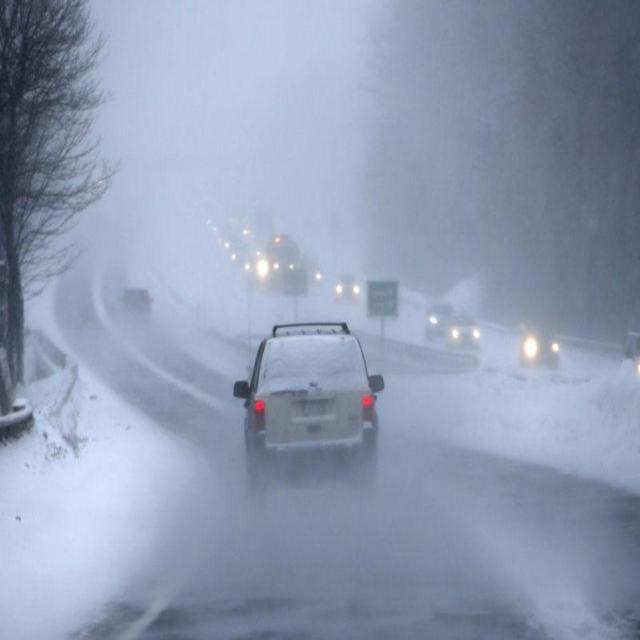Car: (230, 288, 385, 480), (511, 308, 565, 380), (122, 245, 157, 334), (451, 308, 493, 373), (330, 262, 366, 317), (428, 292, 457, 354)
